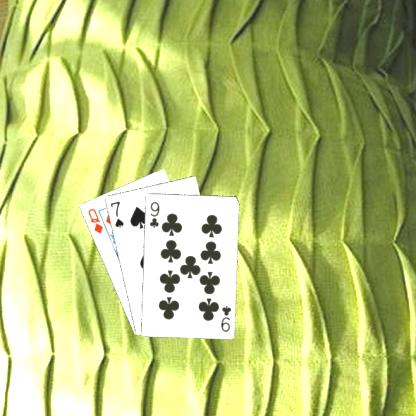7S: (108, 198, 124, 229)
9C: (146, 198, 160, 229), (218, 302, 232, 333)
QD: (85, 206, 104, 235)
